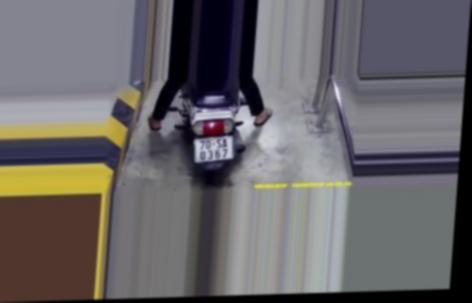License_Plate: (187, 134, 237, 167)
